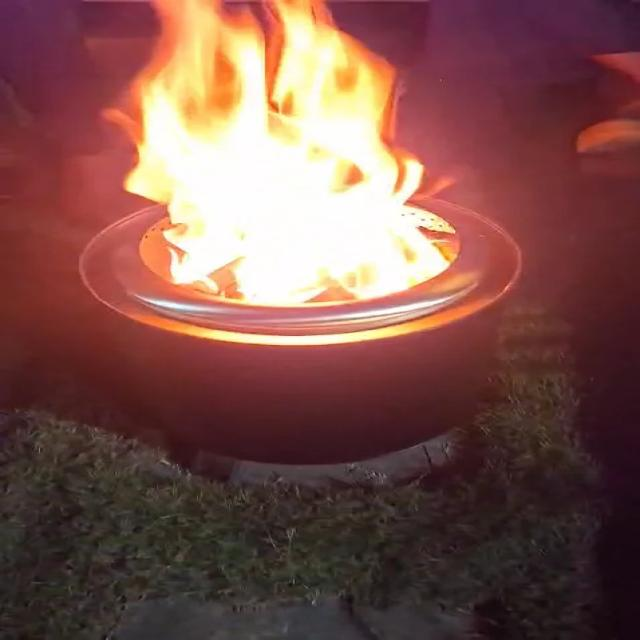fire: (120, 3, 456, 304)
